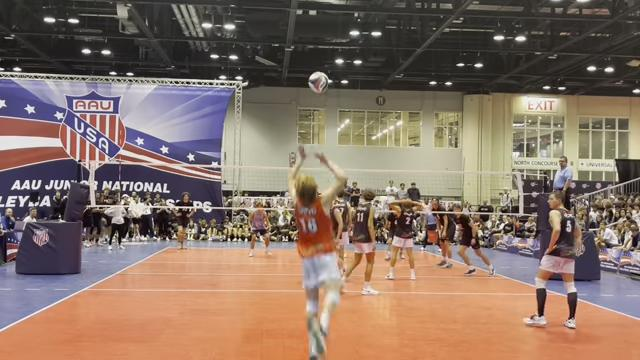Player: (525, 191, 581, 328), (344, 189, 378, 294), (454, 204, 494, 275), (386, 200, 421, 279), (431, 199, 455, 267), (331, 190, 350, 271), (173, 192, 195, 249), (249, 202, 271, 256), (385, 211, 396, 260)
Serve: (281, 134, 347, 359)
ball: (309, 72, 329, 95)
